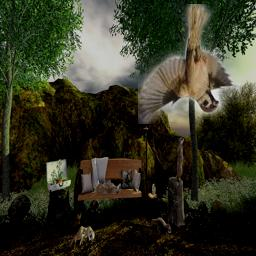Sparrow: (138, 4, 242, 124)
